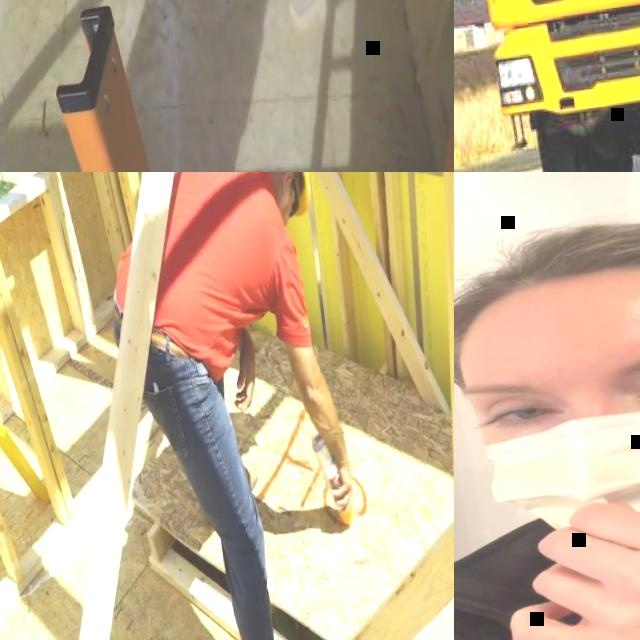Hardhat: (256, 172, 315, 219)
Mask: (466, 339, 640, 560)
NO-Hardhat: (454, 202, 640, 343)
NO-Mask: (278, 199, 294, 229)
NO-Safety Vest: (100, 172, 299, 384), (454, 518, 640, 640)
Person: (95, 172, 380, 640), (454, 178, 640, 640)
machinery: (454, 0, 640, 172)
